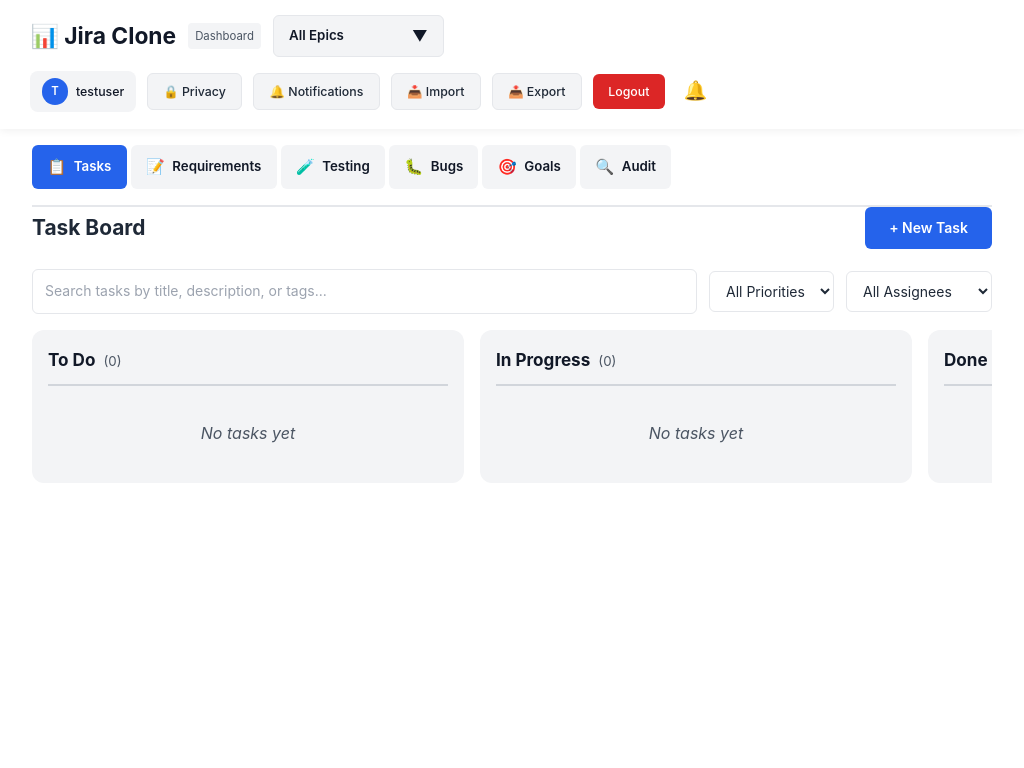
Scenario: DashboardLayout › Task Management › should create a new task
Click the button "+ New Task". click: (929, 228)
box: x1=865 y1=207 x2=992 y2=249
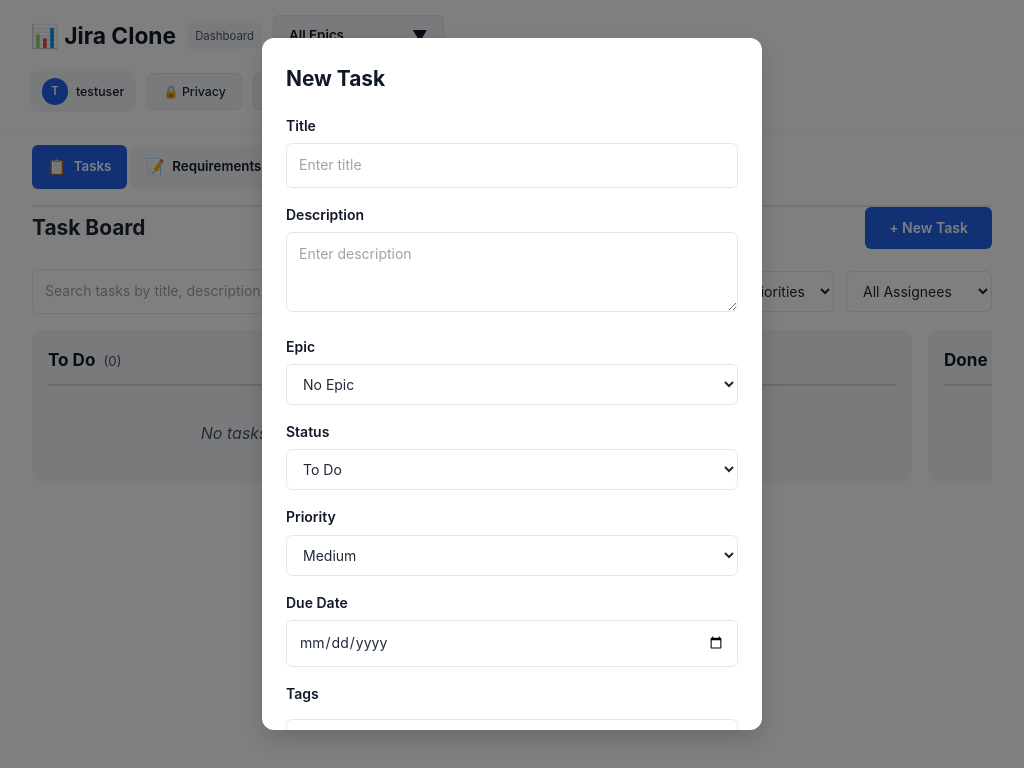
Type "Test Task" into the field with placeholder "Enter title". click: (512, 165)
box: x1=286 y1=143 x2=738 y2=188
(page scrolled)
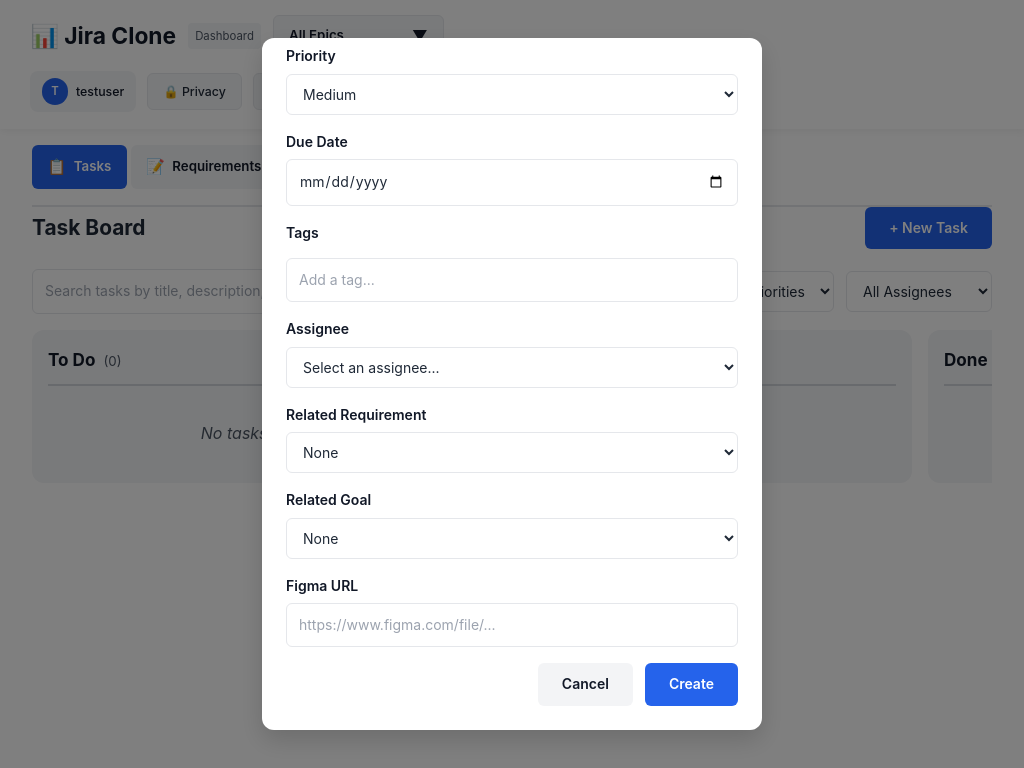
Click the button "Create". click: (691, 684)
box: x1=645 y1=663 x2=738 y2=706
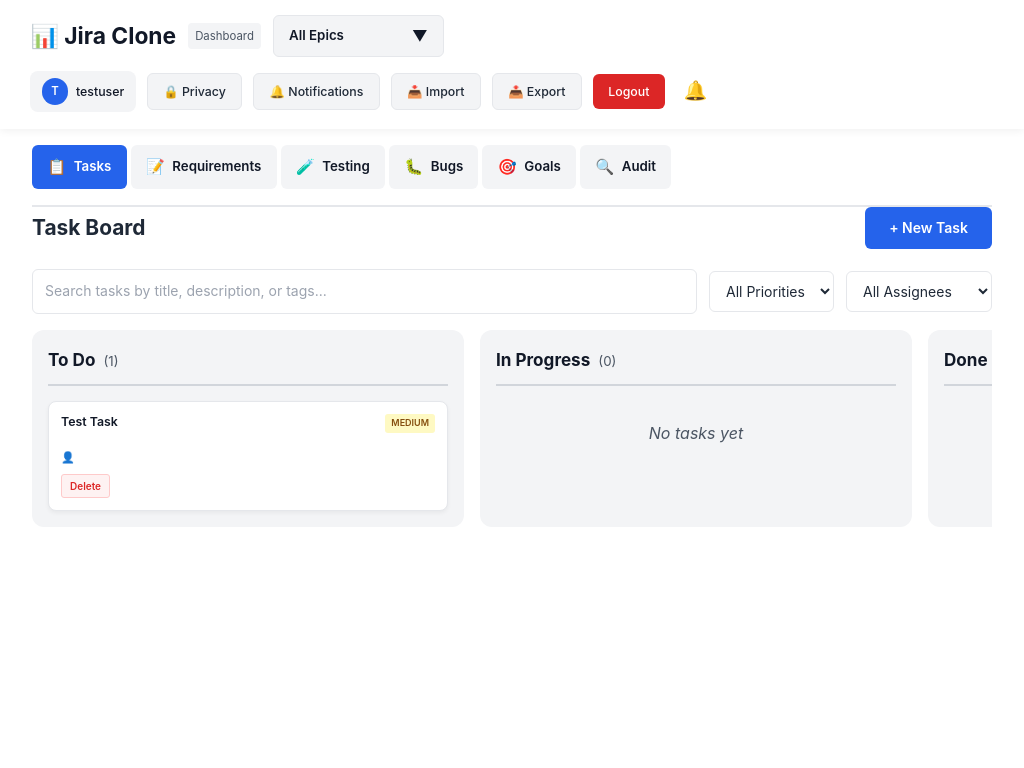
Check: the heading "Test Task" is shown, box x1=61 y1=414 x2=118 y2=430
